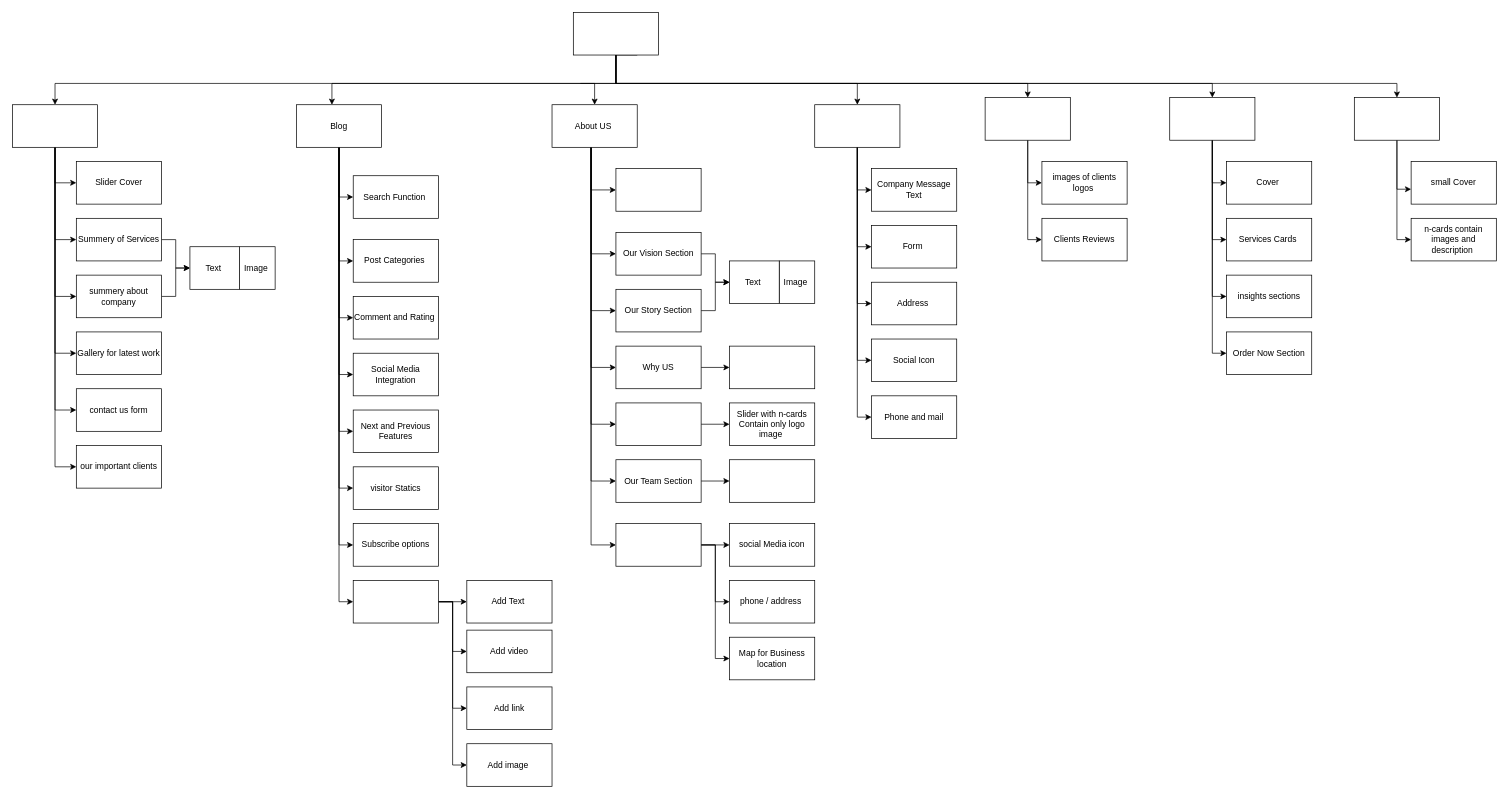
The diagram is 1509 pixels wide and 799 high, and some of its shapes have lost their labels. The shapes that lost their labels are listed below. From the top down, each one's box as (x1, y1, x2, y2) in pixels, then its label:
(573, 12, 659, 55): Dynamic Website
(12, 104, 98, 147): Home Page
(814, 104, 900, 147): Contact us
(984, 97, 1070, 140): Our Clients
(1169, 97, 1255, 140): Services
(1354, 97, 1440, 140): Our Work
(615, 168, 701, 211): Cover image
(729, 345, 815, 389): image in background and text as foreground
(615, 402, 701, 446): Most important clients
(729, 459, 815, 502): slider with n-team Cards
(615, 523, 701, 566): Contact info Section
(353, 580, 438, 623): Post Page Management
